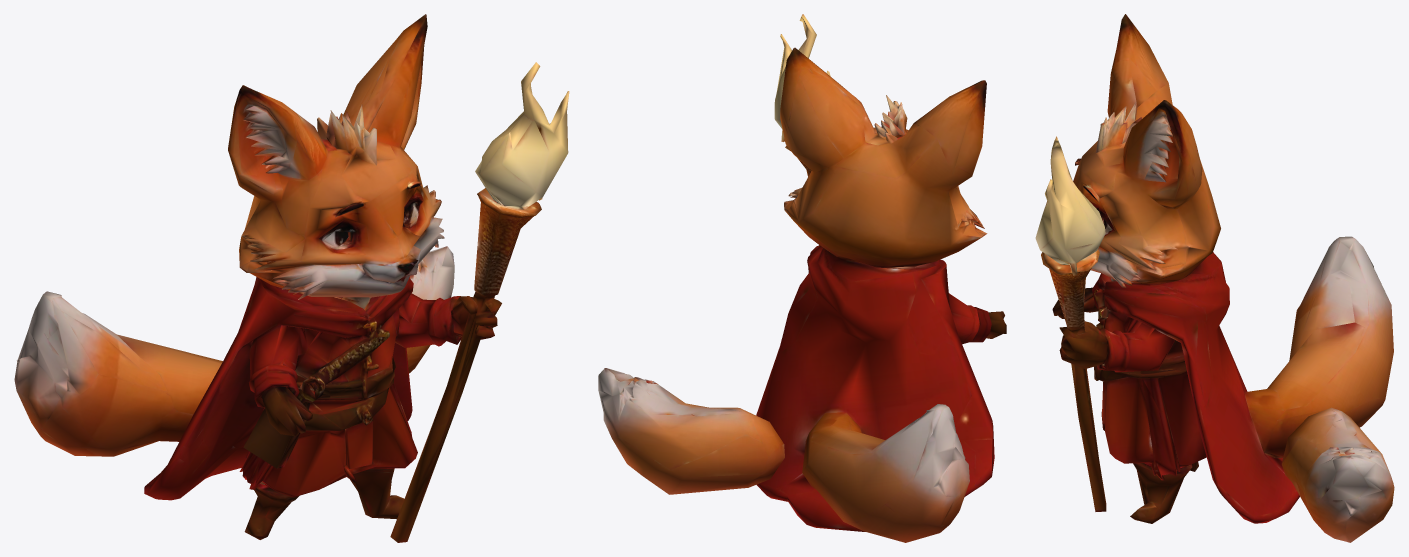
File: cat.glb
3 views of the same model, side by side, from view 1: azimuth 30°, elevation 25°; view 2: azimuth 150°, elevation 25°; view 3: azimuth 270°, elevation 25° (orthographic). The views are drawn at different scales.
Visible parts, largest first — view 1: texture_pbr_v128; view 2: texture_pbr_v128; view 3: texture_pbr_v128.
Boxes of the visible parts, left/top/right/bottom form: texture_pbr_v128: left=14, top=14, right=569, bottom=542; texture_pbr_v128: left=598, top=14, right=1006, bottom=542; texture_pbr_v128: left=1035, top=14, right=1394, bottom=542.
Size of the model in its own units: 0.8628 by 0.9302 by 0.692.
1 material, 1 textured.
